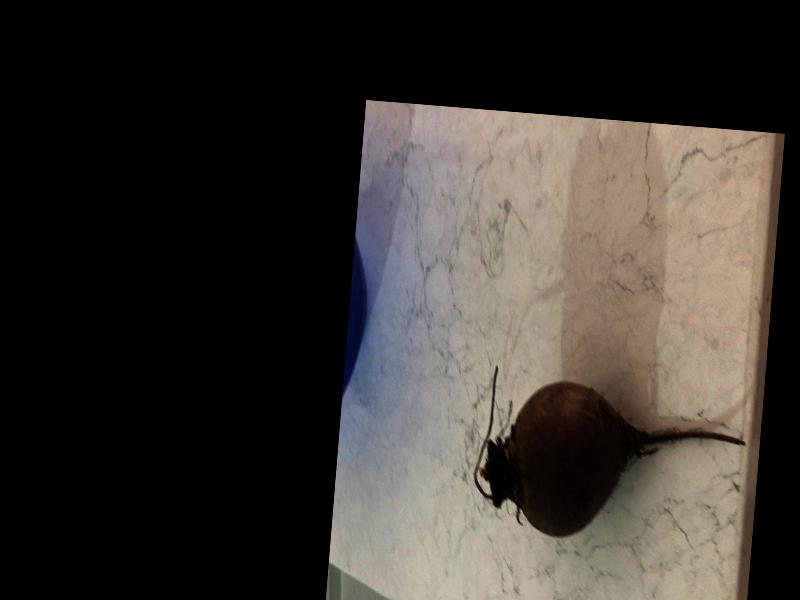Beet: (468, 363, 749, 550)
